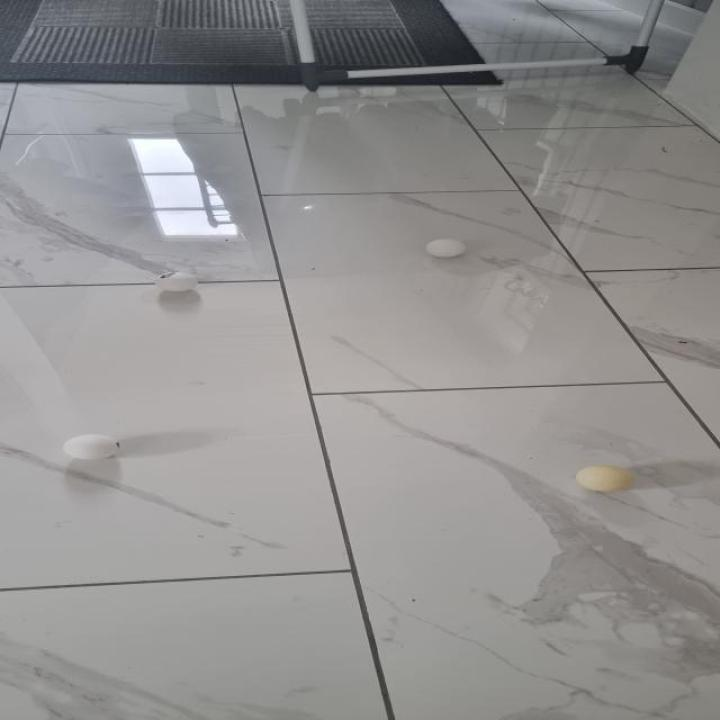white: (575, 464, 635, 492), (62, 434, 122, 460), (154, 272, 197, 292), (426, 238, 465, 258)
